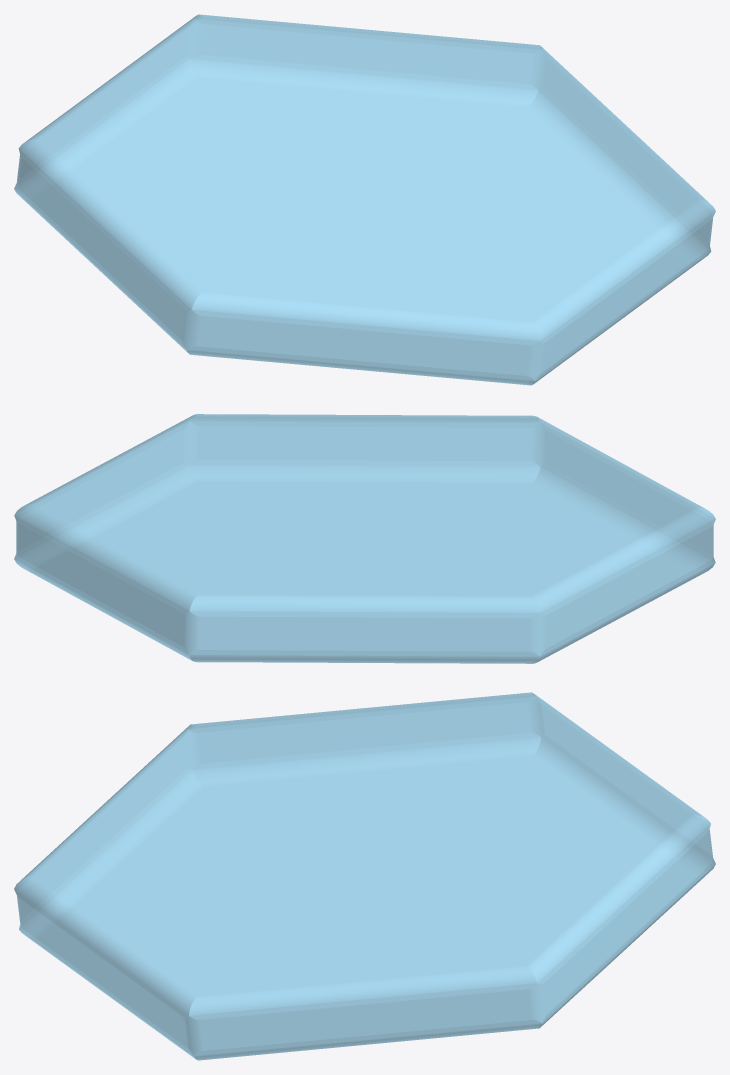
File: six3.fbx
3 renders of one model, top to bottom at view 1: azimuth 30°, elevation 25°; view 2: azimuth 150°, elevation 25°; view 3: azimuth 270°, elevation 25°, orthographic.
Parts seen in each view (by area): view 1: six_cube; view 2: six_cube; view 3: six_cube.
Boxes of the visible parts, x1,y1,x2,y2 form: six_cube: (14, 14, 715, 385); six_cube: (14, 414, 715, 663); six_cube: (14, 692, 715, 1060).
Bounding box in the file's own units: 174 × 39.64 × 200.
